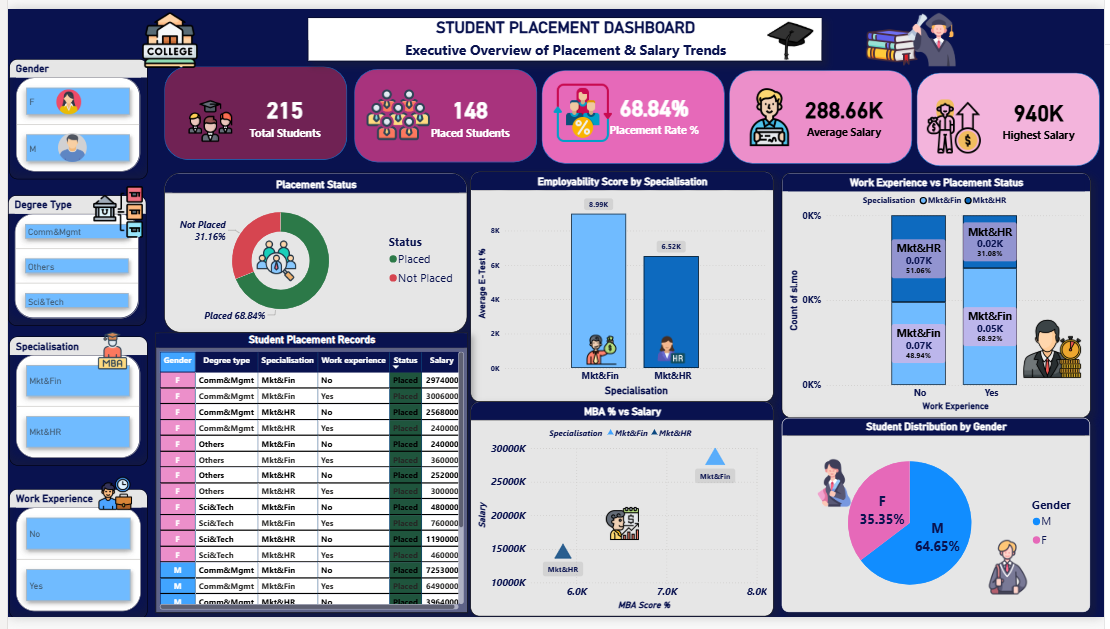

This screenshot's page, from the dashboard's own definition file:
{"tool":"powerbi","page":{"name":"Page 1","canvas":[1800,1000],"ordinal":0},"visuals":[{"type":"shape","box":[1491.6,105,300.4,153.4],"z":0},{"type":"shape","box":[1184.9,100.8,300.4,153.4],"z":1000},{"type":"shape","box":[876.1,100.8,300.4,153.4],"z":2000},{"type":"shape","box":[569.3,98.7,300.4,153.4],"z":3000},{"type":"shape","box":[256.3,94.5,300.4,153.4],"z":4000},{"type":"shape","title":"STUDENT PLACEMENT DASHBOARD","box":[492,15,844.4,70.9],"z":5000},{"type":"card","fields":{"Values":["Project.Total Students"]},"box":[370.6,102.7,171.2,145],"z":6000},{"type":"card","fields":{"Values":["Project.Placed Students"]},"box":[678.7,102.7,159.1,145],"z":7000},{"type":"card","fields":{"Values":["Project.Placement Rate %"]},"box":[974.8,98.7,172.3,145],"z":8000},{"type":"card","fields":{"Values":["Project.Average Salary"]},"box":[1292.9,100.7,159.1,147],"z":9000},{"type":"card","fields":{"Values":["Project.Highest Salary"]},"box":[1607.1,107.1,170.2,145],"z":10000},{"type":"image","box":[1241.6,8.4,86.1,88.2],"z":11000},{"type":"advancedSlicerVisual","title":"Gender","fields":{"Values":["Project.gender"]},"box":[2.1,81.9,226.9,197.5],"z":12000},{"type":"advancedSlicerVisual","title":"Degree Type","fields":{"Values":["Project.degree_t"]},"box":[0,306.7,226.9,214.3],"z":13000},{"type":"advancedSlicerVisual","title":"Specialisation","fields":{"Values":["Project.specialisation"]},"box":[2.1,537.8,226.9,212.2],"z":14000},{"type":"advancedSlicerVisual","title":"Work Experience","fields":{"Values":["Project.workex"]},"box":[2,787.4,227.6,213.5],"z":15000},{"type":"donutChart","title":"Placement Status","fields":{"Category":["Project.status"],"Y":["CountNonNull(Project.sl_no)"]},"box":[256.3,268.9,497.9,262.6],"z":16000},{"type":"clusteredColumnChart","title":"Employability Score by Specialisation","fields":{"Category":["Project.specialisation"],"Y":["Sum(Project.etest_p)"]},"box":[760.5,266.8,497.9,378.2],"z":17000},{"type":"tableEx","title":"Student Placement Records","fields":{"Values":["Project.gender","Project.degree_t","Project.specialisation","Project.workex","Project.status","Sum(Project.salary)"]},"box":[241.6,531.5,512.6,460.1],"z":18000},{"type":"hundredPercentStackedColumnChart","title":"Work Experience vs Placement Status","fields":{"Category":["Project.workex"],"Y":["CountNonNull(Project.sl_no)"],"Series":["Project.specialisation"]},"box":[1270.8,269.9,507.5,402.8],"z":19000},{"type":"scatterChart","title":"MBA % vs Salary","fields":{"Y":["Sum(Project.salary)"],"Series":["Project.specialisation"],"Size":["Sum(Project.etest_p)"],"X":["Sum(Project.mba_p)"]},"box":[760.5,645,497.9,352.9],"z":20000},{"type":"pieChart","title":"Student Distribution by Gender","fields":{"Category":["Project.gender"],"Y":["CountNonNull(Project.sl_no)"]},"box":[1271,672.3,506.3,319.3],"z":21000},{"type":"image","box":[390.8,371.8,100.8,84],"z":22000},{"type":"image","box":[1061.3,531.7,56.4,56.4],"z":23000},{"type":"image","box":[942.5,529.6,64.4,60.4],"z":24000},{"type":"image","box":[1653.4,499.4,124.9,118.8],"z":25000},{"type":"image","box":[1308.8,729,94.5,98.7],"z":26000},{"type":"image","box":[1590.3,861.3,102.9,109.2],"z":27000},{"type":"image","box":[968.7,813.6,80.6,64.4],"z":28000},{"type":"image","box":[128.2,525.2,88.2,71.4],"z":29000},{"type":"image","box":[142.9,758.4,65.1,75.6],"z":30000},{"type":"image","box":[134.5,266.8,94.5,132.4],"z":31000},{"type":"image","box":[54.6,128.2,88.2,50.4],"z":32000},{"type":"image","box":[67.2,199.6,75.6,56.7],"z":33000},{"type":"image","box":[292,136.6,81.9,92.4],"z":34000},{"type":"image","box":[577.7,117.6,128.2,113.4],"z":35000},{"type":"image","box":[882.4,111.3,121.8,119.7],"z":36000},{"type":"image","box":[1184.9,126.1,132.4,105],"z":37000},{"type":"image","box":[1497.9,142.9,109.2,98.7],"z":38000},{"type":"image","box":[216.4,0,100.8,102.9],"z":39000},{"type":"image","box":[1405.1,0,94.5,101],"z":40000},{"type":"image","box":[1465.3,0,103.1,101],"z":41000}]}

Visuals, with their boxes in screenshot pixels (x1, y1, x2, y2), scaled from the page's 1800x1000 canvas onto the 1110x629 screenshot:
shape: left=920, top=66, right=1105, bottom=163
shape: left=731, top=63, right=916, bottom=160
shape: left=540, top=63, right=726, bottom=160
shape: left=351, top=62, right=536, bottom=159
shape: left=158, top=59, right=343, bottom=156
"STUDENT PLACEMENT DASHBOARD" shape: left=303, top=9, right=824, bottom=54
card - Project.Total Students: left=229, top=65, right=334, bottom=156
card - Project.Placed Students: left=419, top=65, right=517, bottom=156
card - Project.Placement Rate %: left=601, top=62, right=707, bottom=153
card - Project.Average Salary: left=797, top=63, right=895, bottom=156
card - Project.Highest Salary: left=991, top=67, right=1096, bottom=159
image: left=766, top=5, right=819, bottom=61
"Gender" advancedSlicerVisual: left=1, top=52, right=141, bottom=176
"Degree Type" advancedSlicerVisual: left=0, top=193, right=140, bottom=328
"Specialisation" advancedSlicerVisual: left=1, top=338, right=141, bottom=472
"Work Experience" advancedSlicerVisual: left=1, top=495, right=142, bottom=628
"Placement Status" donutChart: left=158, top=169, right=465, bottom=334
"Employability Score by Specialisation" clusteredColumnChart: left=469, top=168, right=776, bottom=406
"Student Placement Records" tableEx: left=149, top=334, right=465, bottom=624
"Work Experience vs Placement Status" hundredPercentStackedColumnChart: left=784, top=170, right=1097, bottom=423
"MBA % vs Salary" scatterChart: left=469, top=406, right=776, bottom=628
"Student Distribution by Gender" pieChart: left=784, top=423, right=1096, bottom=624
image: left=241, top=234, right=303, bottom=287
image: left=654, top=334, right=689, bottom=370
image: left=581, top=333, right=621, bottom=371
image: left=1020, top=314, right=1097, bottom=389
image: left=807, top=459, right=865, bottom=521
image: left=981, top=542, right=1044, bottom=610
image: left=597, top=512, right=647, bottom=552
image: left=79, top=330, right=133, bottom=375
image: left=88, top=477, right=128, bottom=525
image: left=83, top=168, right=141, bottom=251
image: left=34, top=81, right=88, bottom=112
image: left=41, top=126, right=88, bottom=161
image: left=180, top=86, right=231, bottom=144
image: left=356, top=74, right=435, bottom=145
image: left=544, top=70, right=619, bottom=145
image: left=731, top=79, right=812, bottom=145
image: left=924, top=90, right=991, bottom=152
image: left=133, top=0, right=196, bottom=65
image: left=866, top=0, right=925, bottom=64
image: left=904, top=0, right=967, bottom=64
